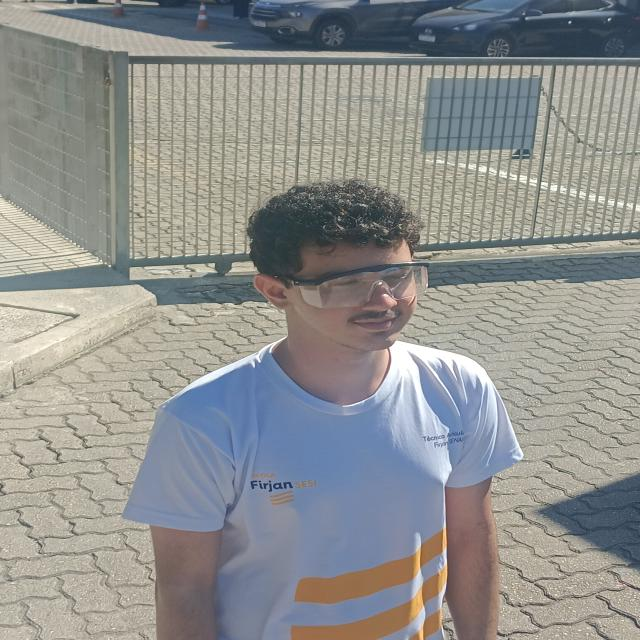oculos-epi: (294, 262, 428, 308)
